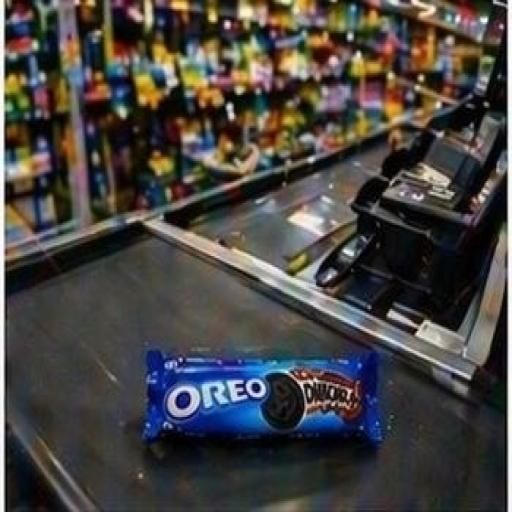oreo: (104, 266, 428, 491)
